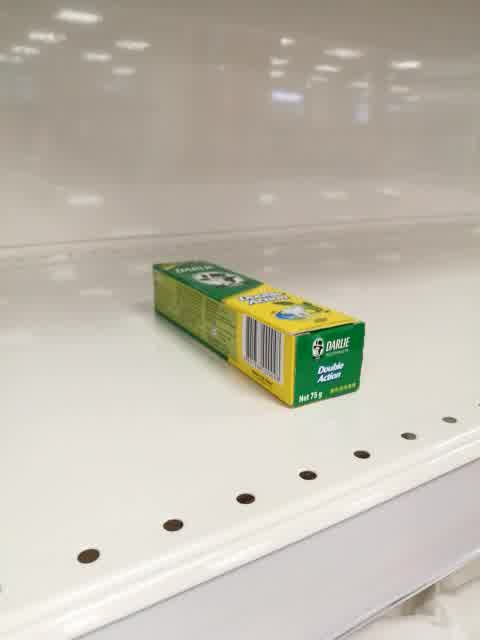toothpaste: (151, 259, 366, 410)
